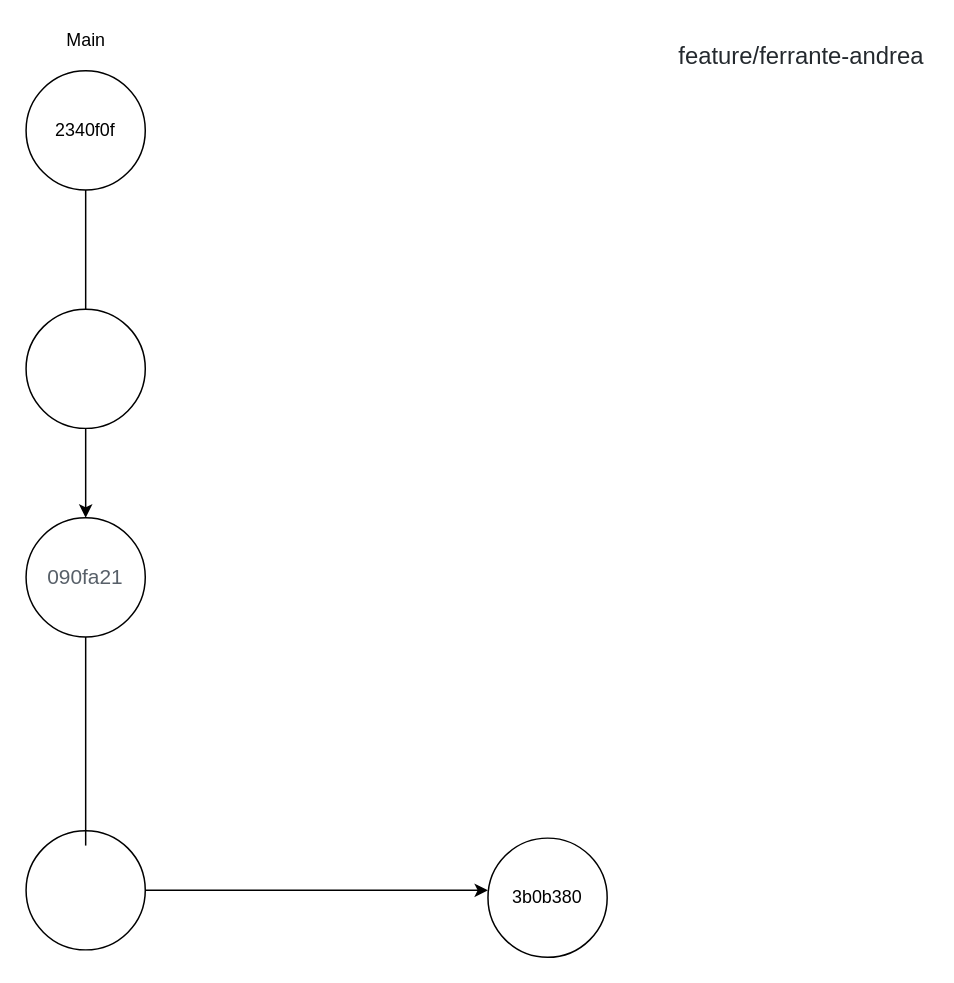
Image size: 954x983. Some labels were removed from this diagram. Each missing label, with the centre of its shape:
0544e4b: point 85,368
363481d: point 85,889
